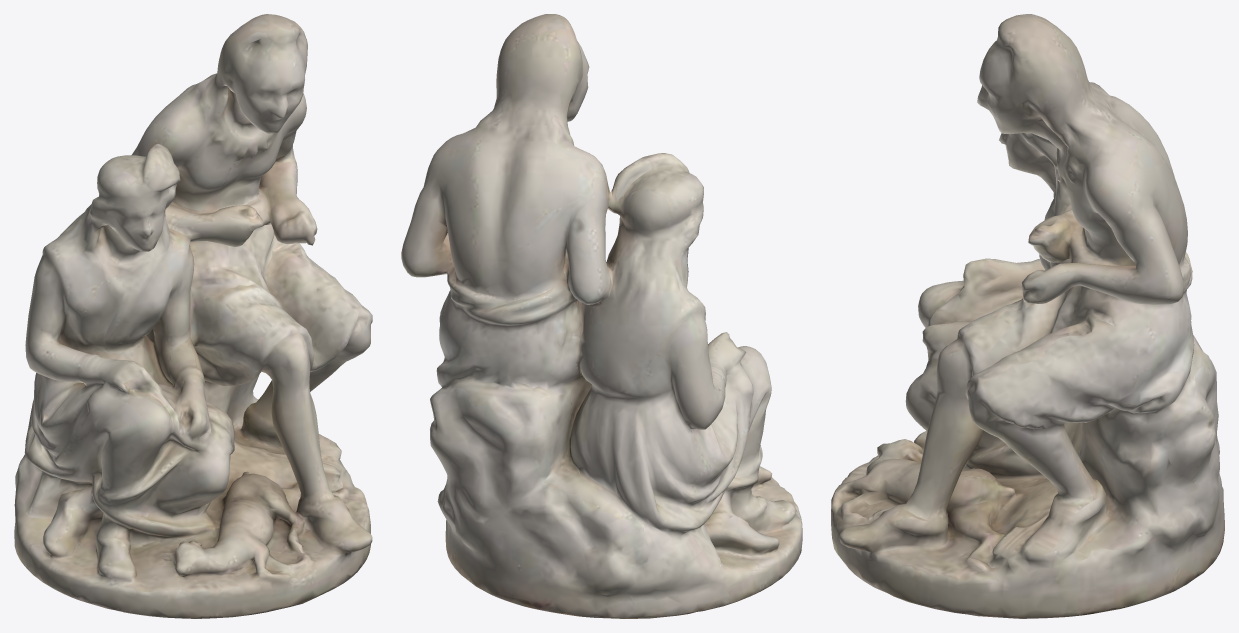
The picture shows the model from 3 angles, left to right: view 1: azimuth 30°, elevation 25°; view 2: azimuth 150°, elevation 25°; view 3: azimuth 270°, elevation 25°; orthographic projection. The views are drawn at different scales.
Size of the model in its own units: 0.3389 by 0.5153 by 0.3289.
Materials: 1 (1 with a texture image).
